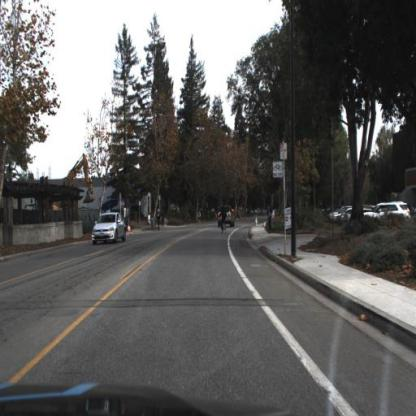biker: (220, 209, 227, 234), (197, 208, 202, 226)
car: (365, 200, 413, 225), (92, 211, 127, 243), (220, 208, 234, 231)
pedestrian: (266, 201, 275, 235), (161, 210, 167, 231), (157, 210, 162, 233), (155, 210, 161, 229)
truck: (45, 149, 96, 237)
